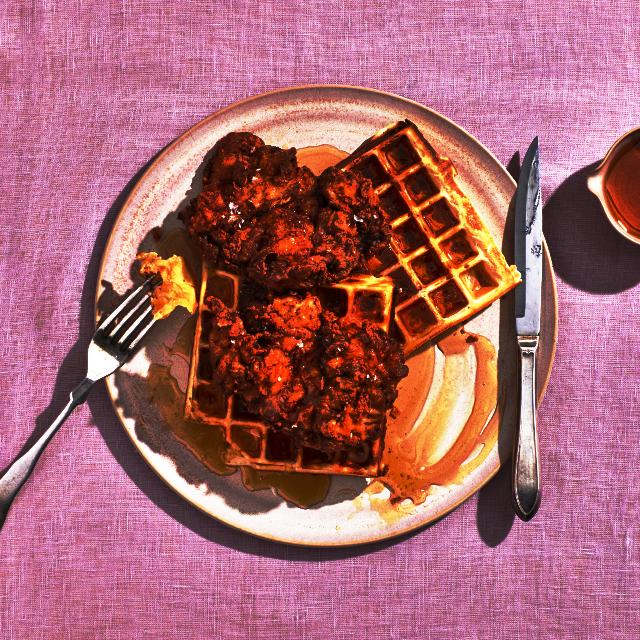chicken waffle: (139, 117, 521, 500)
